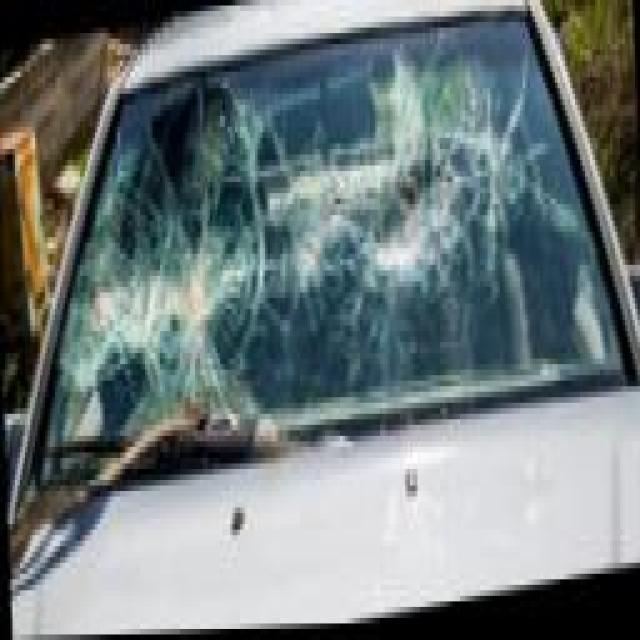Windshield: (32, 0, 606, 487)
